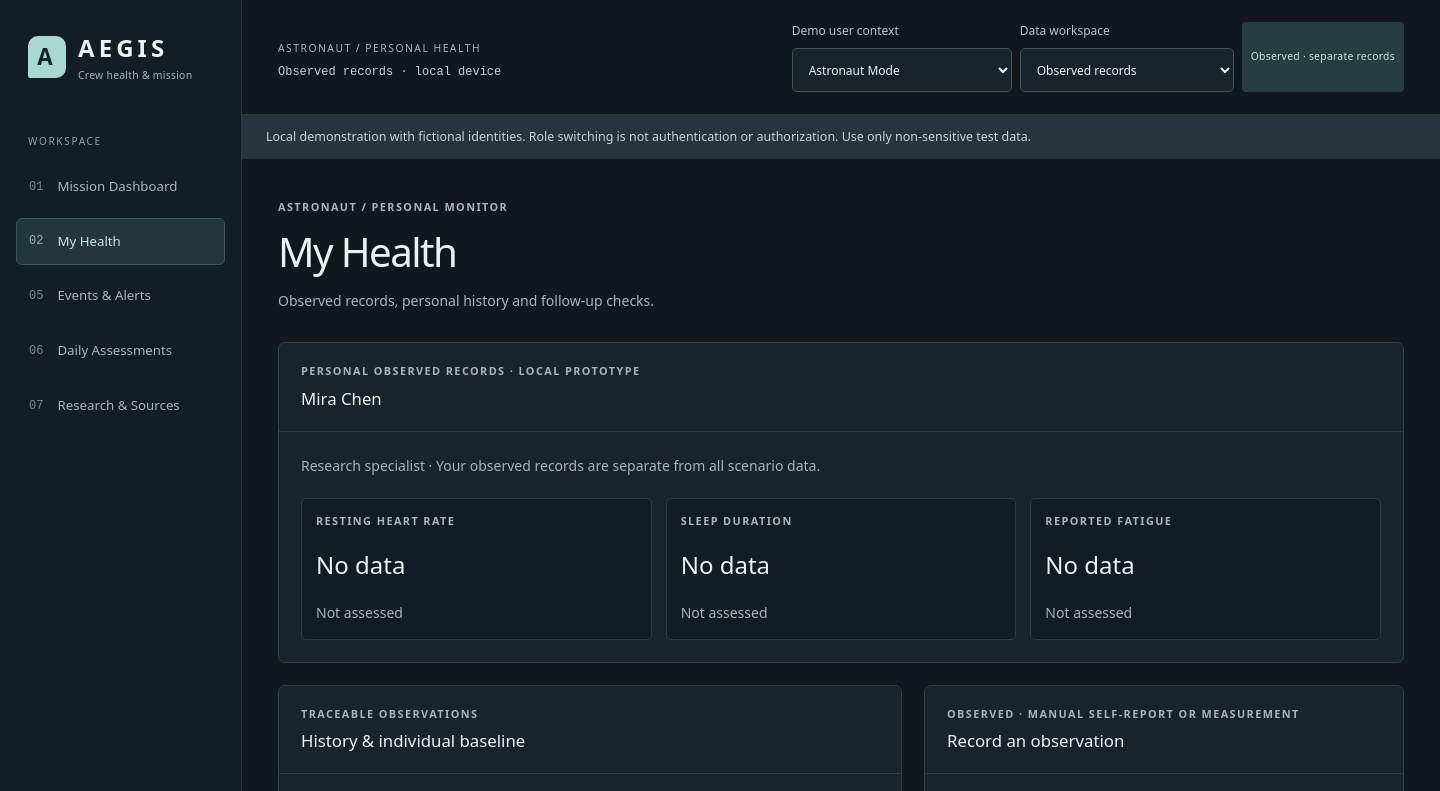
Scenario: astronaut-first integrated application › shows the science registry through existing navigation
Click the button "07 Research & Sources": (120, 406) [16,382,225,430]
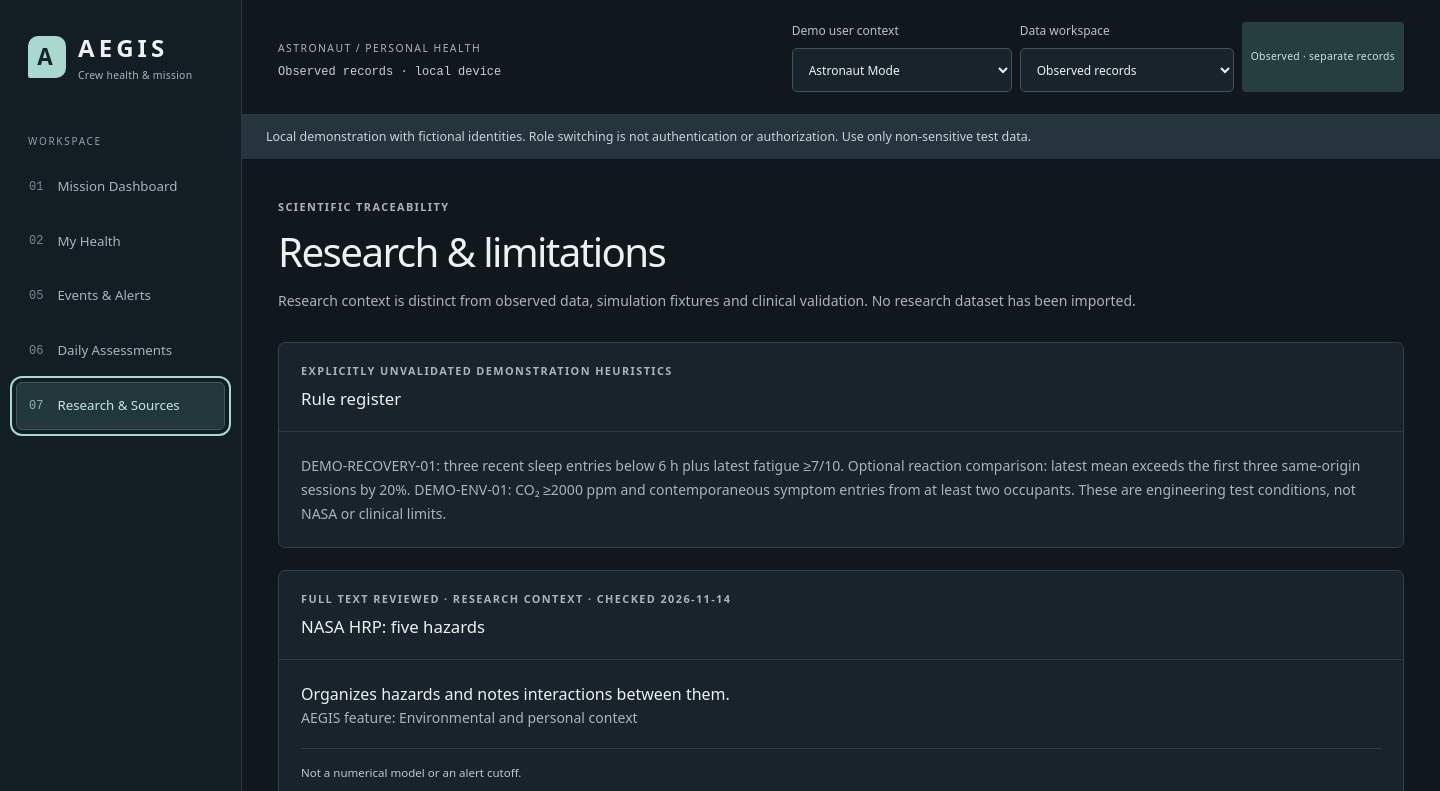
Result: the text "No research dataset has been imported" is shown at [278,291,1136,310]
